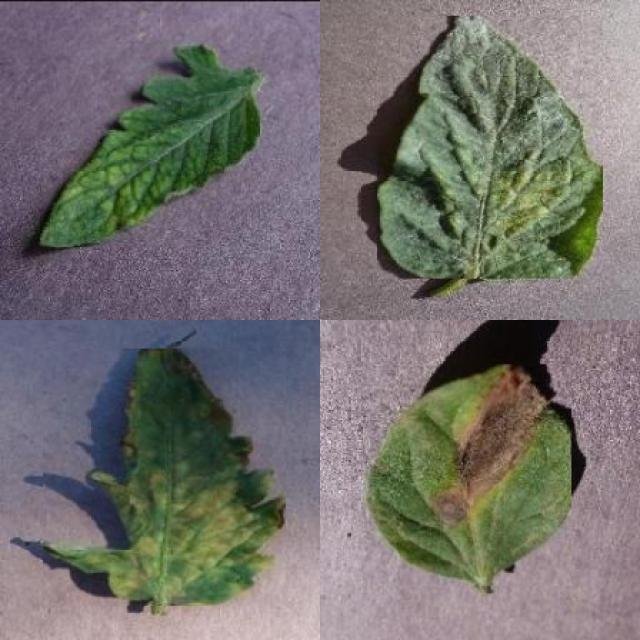Early Blight: (364, 364, 572, 586)
Leaf Mold: (44, 348, 286, 606)
Mosaic Virus: (37, 42, 260, 248)
Spider Mites: (378, 15, 602, 278)
